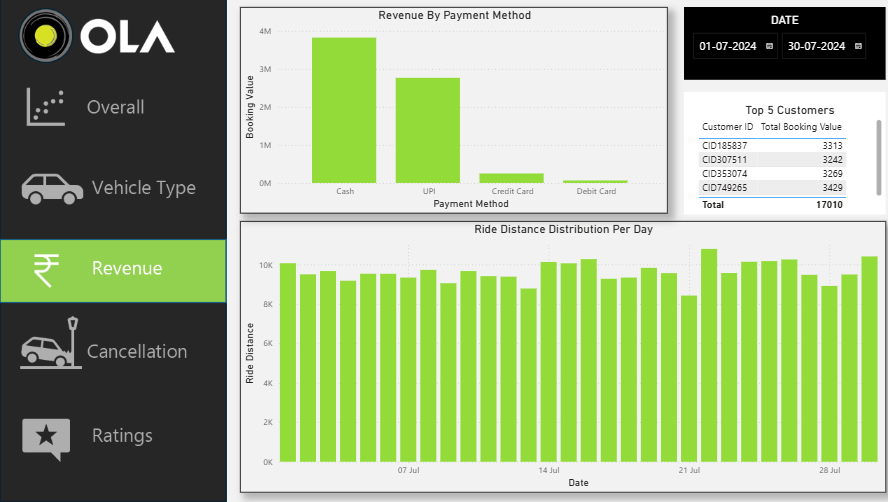

Layout of this report page (visuals, bound fields, positions):
{"tool":"powerbi","page":{"name":"Revenue","canvas":[1280,720],"ordinal":2},"visuals":[{"type":"actionButton","box":[0,220.4,326.2,95.5],"z":0},{"type":"actionButton","box":[0,442.3,326.2,95.5],"z":1000},{"type":"actionButton","box":[0,571.6,326.2,95.5],"z":2000},{"type":"actionButton","box":[0,97,326.2,95.5],"z":3000},{"type":"columnChart","title":"Revenue By Payment Method","fields":{"Category":["bookings_cleaned.Payment_Method"],"Y":["Sum(bookings_cleaned.Booking_Value)"]},"box":[342.4,10.3,611.3,295.3],"z":3001},{"type":"columnChart","title":"Ride Distance Distribution Per Day","fields":{"Y":["Sum(bookings_cleaned.Ride_Distance)"],"Category":["bookings_cleaned.Date"]},"box":[342.4,315.9,922.8,387.9],"z":3002},{"type":"slicer","title":"DATE","fields":{"Values":["bookings_cleaned.Date"]},"box":[977.1,10.3,288,104.3],"z":3003},{"type":"tableEx","title":"Top 5 Customers","fields":{"Values":["bookings_cleaned.Customer_ID","Sum(bookings_cleaned.Booking_Value)"]},"box":[977.1,130.8,288,174.9],"z":3004}]}

Visuals, with their boxes on the page's 1280x720 design canvas (x1, y1, x2, y2). These are canvas units, not pixel positions in the 888x502 screenshot, which may show the page scaled, cropped or inside an application window:
actionButton: 0,220,326,316
actionButton: 0,442,326,538
actionButton: 0,572,326,667
actionButton: 0,97,326,192
"Revenue By Payment Method" columnChart: 342,10,954,306
"Ride Distance Distribution Per Day" columnChart: 342,316,1265,704
"DATE" slicer: 977,10,1265,115
"Top 5 Customers" tableEx: 977,131,1265,306
